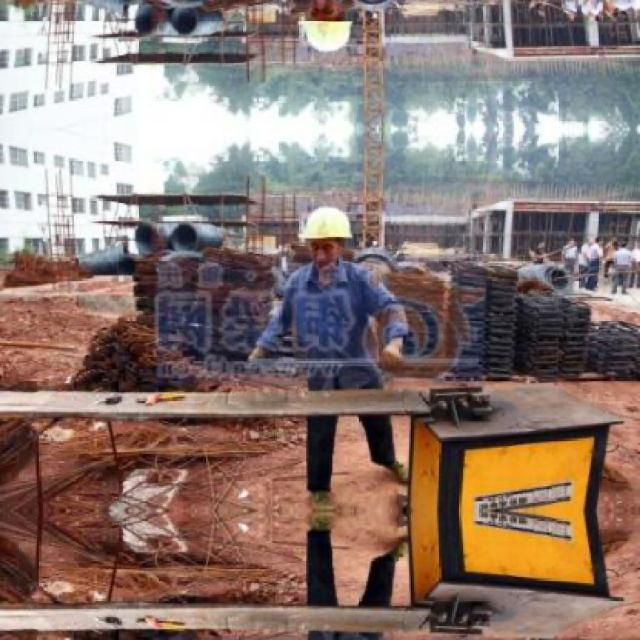con casco: (272, 178, 379, 272)
